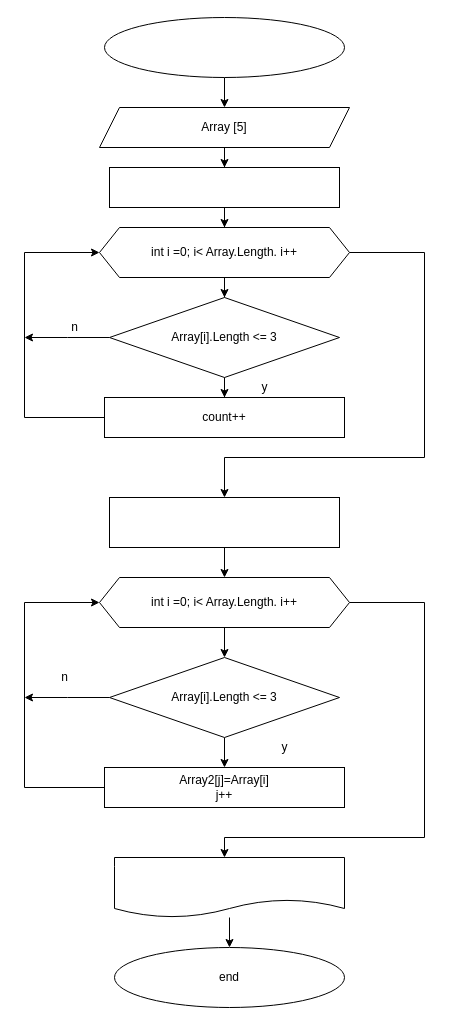
The diagram is 450 pixels wide and 1025 high, and some of its shapes have lost their labels. The centre of each missing label's shape, as x and y in pixels:
"Array Array2" goes at (229,887).
"int count=0" goes at (224,187).
"int j = 0 Array2[count]" goes at (224,522).
"start" goes at (224,47).
